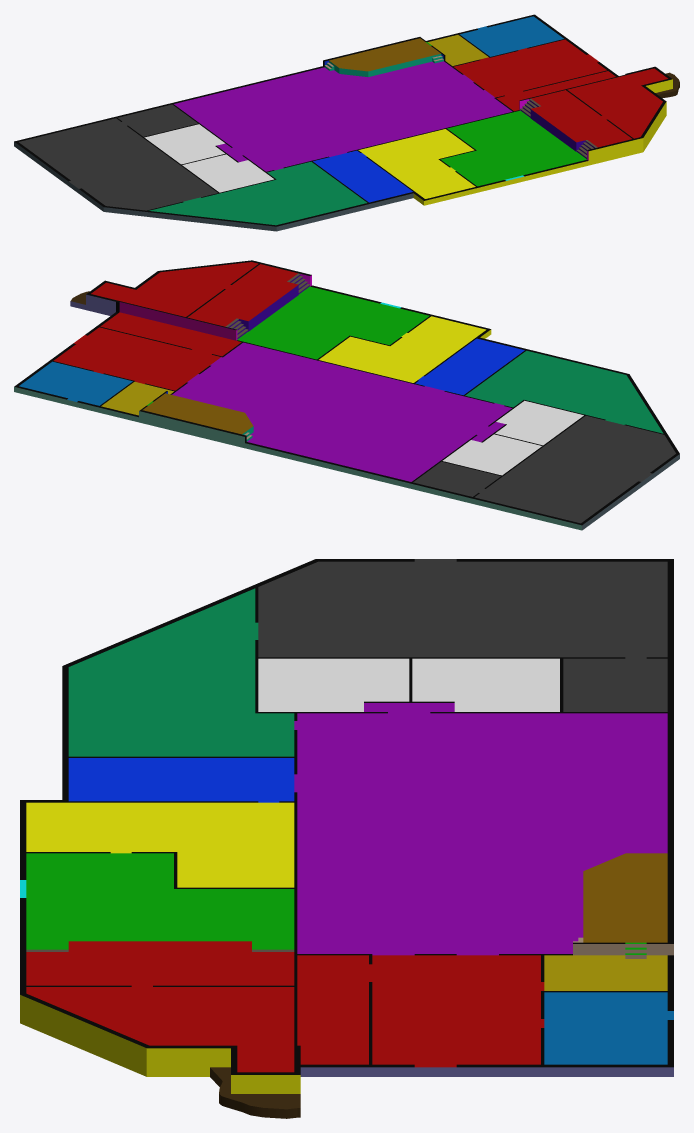
The model's file is gA_05-Boden-FBX.fbx.
The picture shows the model from 3 angles, top to bottom: view 1: azimuth 30°, elevation 25°; view 2: azimuth 150°, elevation 25°; view 3: azimuth 270°, elevation 25°; orthographic projection. The views are drawn at different scales.
Visible parts, largest first — view 1: ID12; view 2: ID12; view 3: ID12.
Boxes of the visible parts, bbox=[...] form: ID12: bbox=[14, 14, 679, 231]; ID12: bbox=[14, 260, 679, 530]; ID12: bbox=[20, 559, 673, 1118].
Bounding box in the file's own units: 61.71 × 1.5 × 31.
